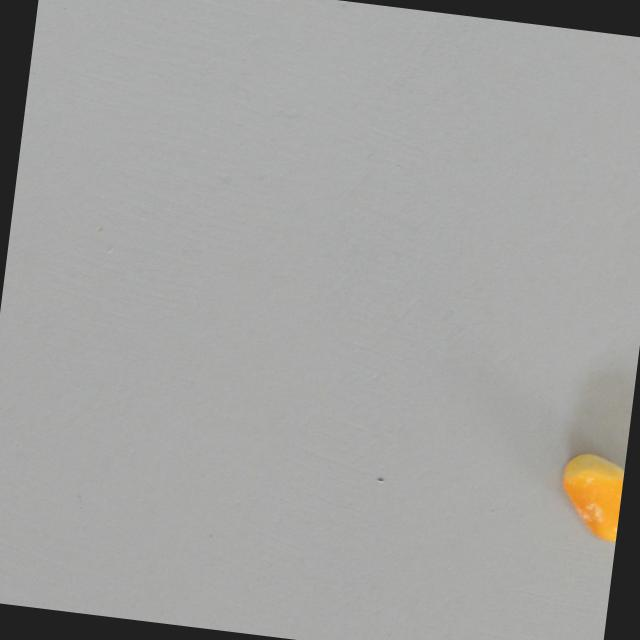dañado: (540, 441, 626, 548)
